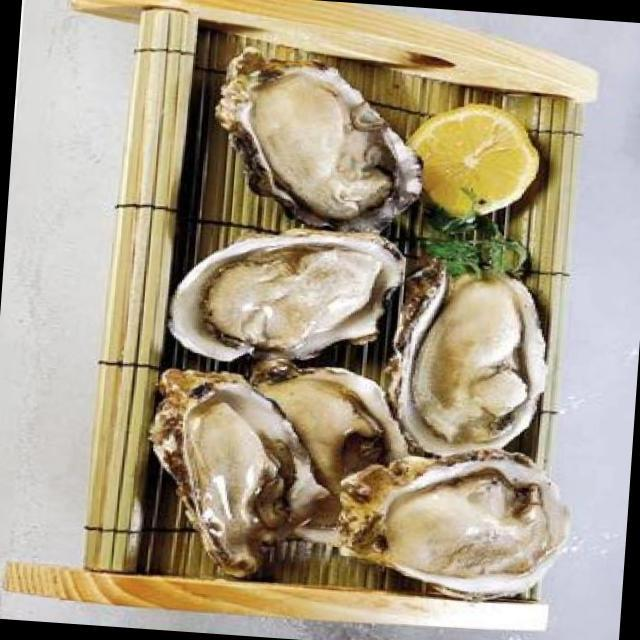Oyster-Open: (135, 360, 340, 582), (210, 45, 436, 235), (328, 433, 577, 603), (160, 219, 409, 377), (383, 254, 559, 462), (236, 357, 412, 555)
